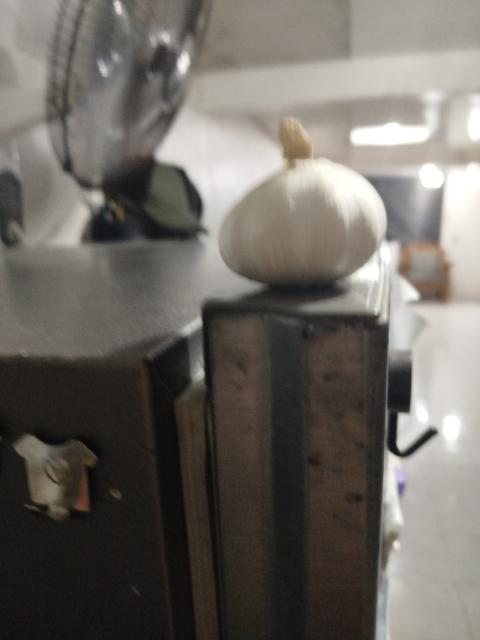garlic: (212, 100, 396, 300)
